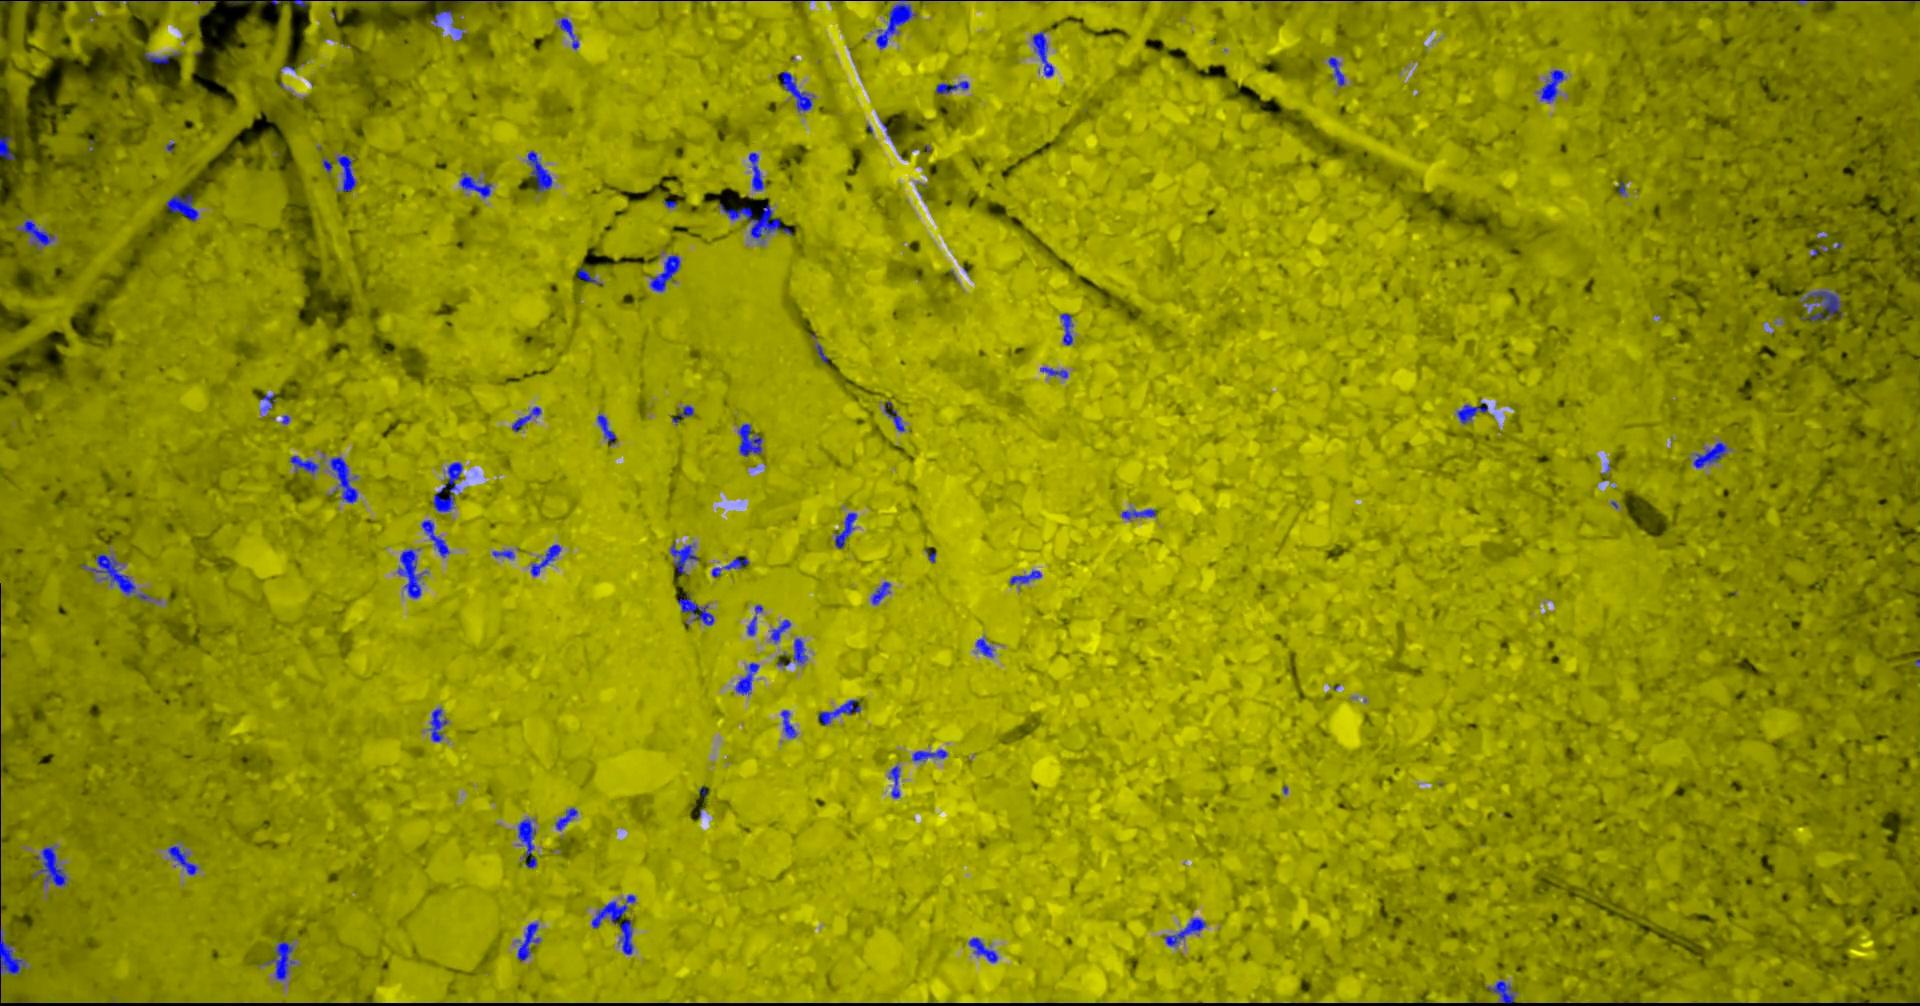ant: (717, 202, 791, 243), (590, 894, 635, 954), (80, 553, 135, 594), (875, 0, 916, 48), (432, 461, 462, 511), (778, 71, 814, 111), (1799, 290, 1843, 321), (36, 845, 67, 887), (329, 456, 357, 502), (0, 923, 24, 976), (1163, 917, 1205, 946), (265, 940, 295, 981), (397, 547, 420, 598), (817, 699, 860, 725), (649, 255, 681, 291), (677, 593, 712, 625), (422, 520, 450, 558), (526, 150, 551, 191), (1031, 30, 1053, 76), (530, 544, 560, 575), (1691, 441, 1727, 467), (517, 818, 536, 868), (669, 542, 698, 574), (165, 193, 198, 221), (516, 922, 540, 960), (19, 218, 53, 245), (168, 845, 197, 874), (1539, 69, 1564, 102), (458, 171, 491, 197), (834, 512, 856, 547), (735, 662, 759, 694), (738, 423, 761, 456), (335, 154, 356, 191), (711, 556, 748, 577), (510, 406, 540, 431), (968, 937, 997, 962), (1487, 981, 1516, 1005), (557, 17, 578, 50), (1457, 401, 1487, 423), (429, 708, 447, 741), (748, 152, 763, 191), (596, 414, 615, 445), (884, 405, 904, 431), (745, 605, 762, 635), (290, 455, 317, 473), (555, 807, 577, 829), (870, 580, 890, 605), (770, 619, 790, 643), (1327, 56, 1343, 85), (780, 709, 796, 737), (577, 267, 602, 285), (1010, 570, 1041, 584), (935, 80, 968, 93), (1059, 312, 1072, 345), (1120, 508, 1156, 520), (792, 638, 808, 664), (912, 749, 946, 761), (670, 405, 693, 422), (888, 765, 899, 796), (143, 51, 169, 64), (0, 136, 14, 159), (432, 10, 452, 25), (975, 638, 992, 655), (1039, 367, 1067, 377), (270, 0, 307, 8), (260, 392, 276, 410), (815, 343, 828, 362), (227, 0, 265, 5), (491, 550, 514, 558)
